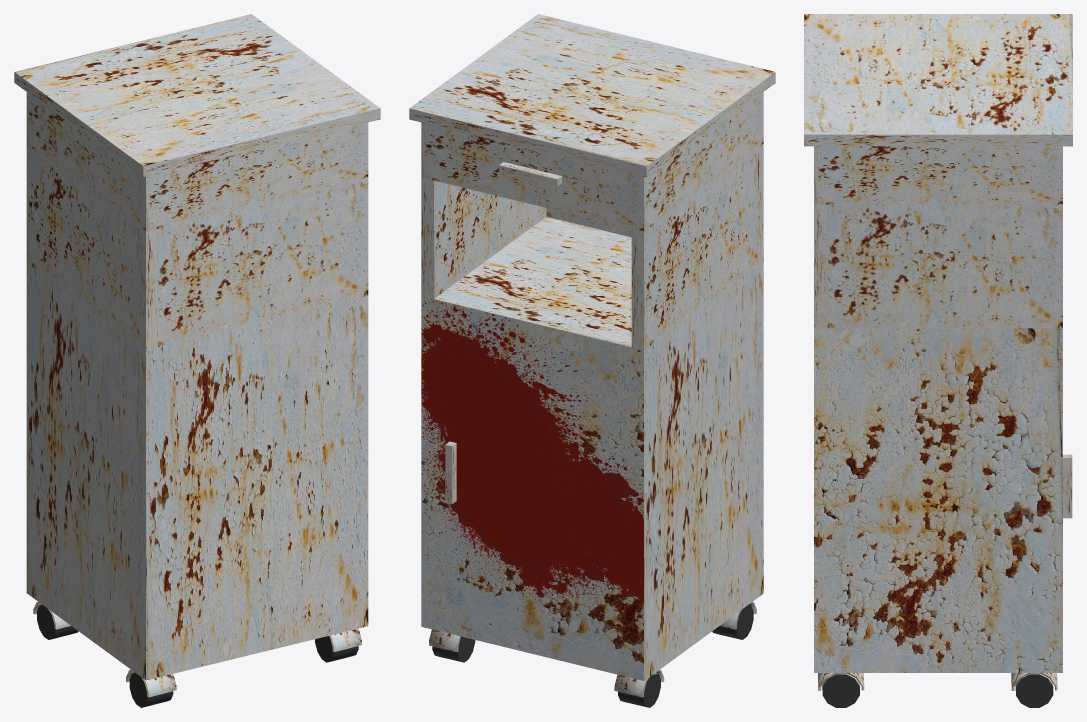
Rendered from TUMBA.fbx.
3 renders of one model, left to right at view 1: azimuth 30°, elevation 25°; view 2: azimuth 150°, elevation 25°; view 3: azimuth 270°, elevation 25°, orthographic. The views are drawn at different scales.
Parts seen in each view (by area): view 1: TUBMA; view 2: TUBMA; view 3: TUBMA.
Boxes of the visible parts, x1=… form: TUBMA: x1=14, y1=14, x2=380, y2=707; TUBMA: x1=409, y1=14, x2=775, y2=707; TUBMA: x1=804, y1=14, x2=1072, y2=707.
Size of the model in its own units: 200 by 448 by 188.
3 materials, 2 textured.
